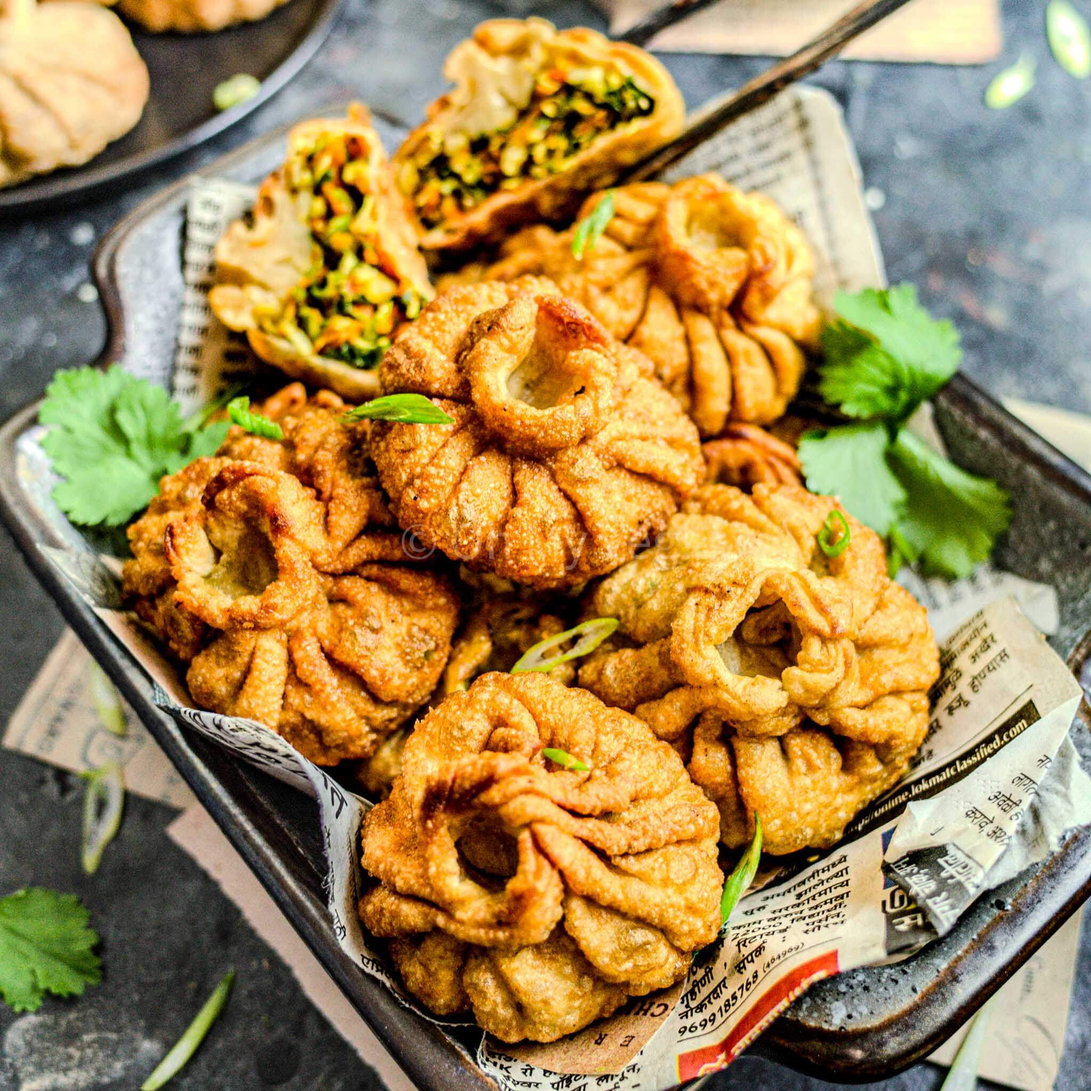momo: (368, 677, 730, 1044), (618, 469, 922, 852), (123, 413, 455, 740), (376, 288, 695, 573), (581, 205, 812, 418)
